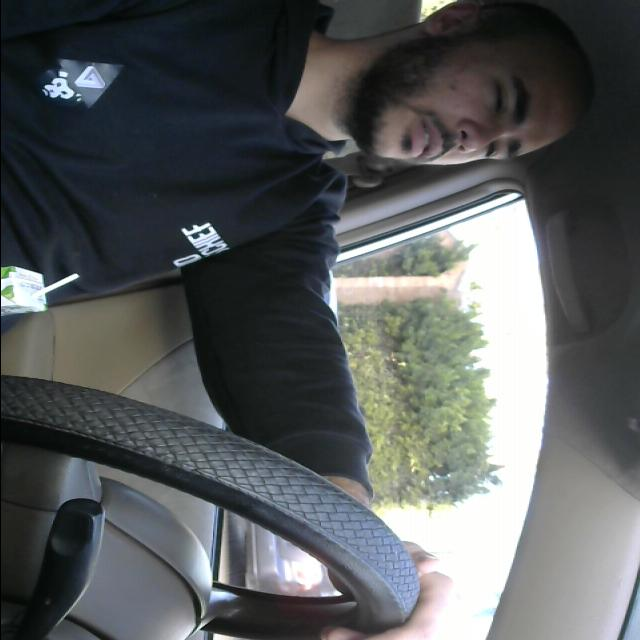drinking: (0, 252, 89, 324)
